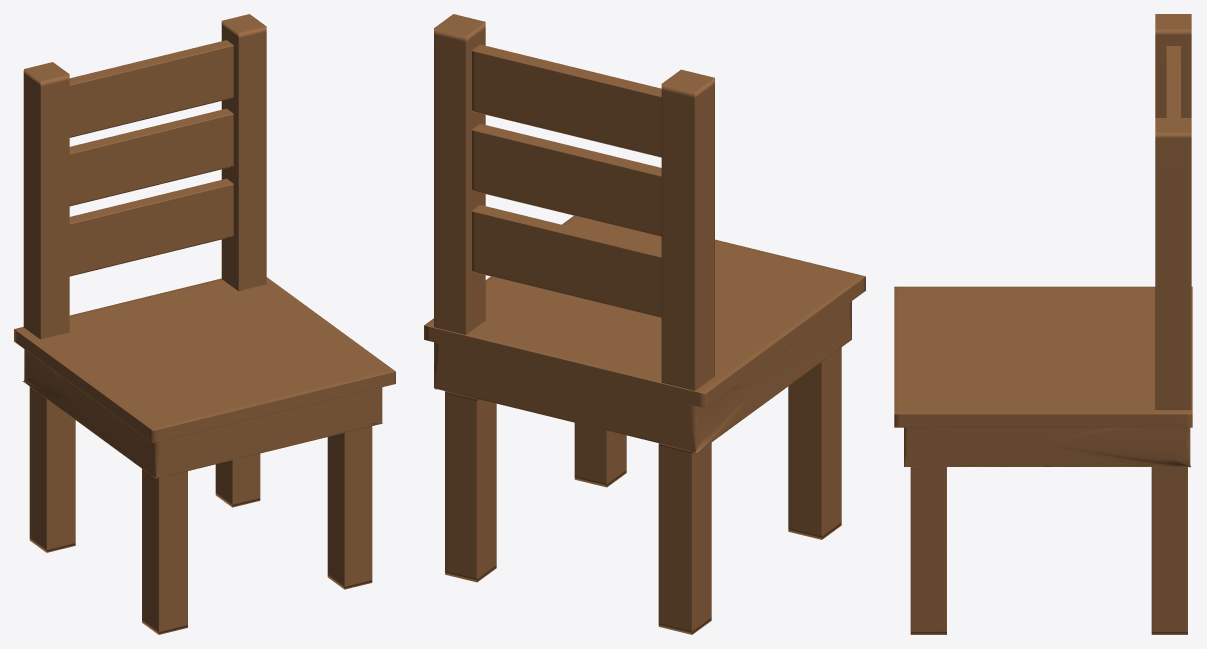
The model's file is wooden_chair_NH.glb.
The picture shows the model from 3 angles, left to right: view 1: azimuth 30°, elevation 25°; view 2: azimuth 150°, elevation 25°; view 3: azimuth 270°, elevation 25°; orthographic projection. The views are drawn at different scales.
Visible parts, largest first — view 1: chair; view 2: chair; view 3: chair.
Part boxes in pixels (bbox=[...]): chair: bbox=[14, 14, 395, 634]; chair: bbox=[424, 14, 865, 634]; chair: bbox=[894, 14, 1192, 634].
Size of the model in its own units: 1.72 by 3.19 by 1.71.
